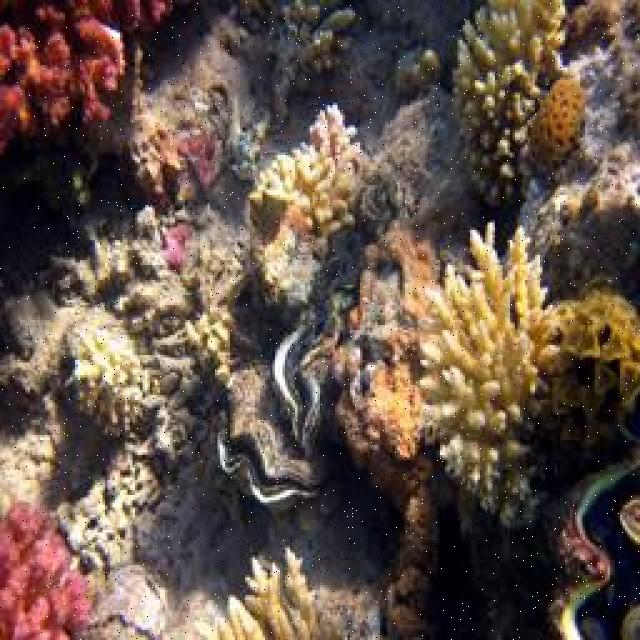reefs: (413, 221, 560, 531), (454, 2, 588, 197), (210, 355, 328, 518), (547, 448, 638, 638), (247, 107, 373, 235), (547, 284, 638, 458), (180, 545, 338, 638), (0, 498, 93, 638)
